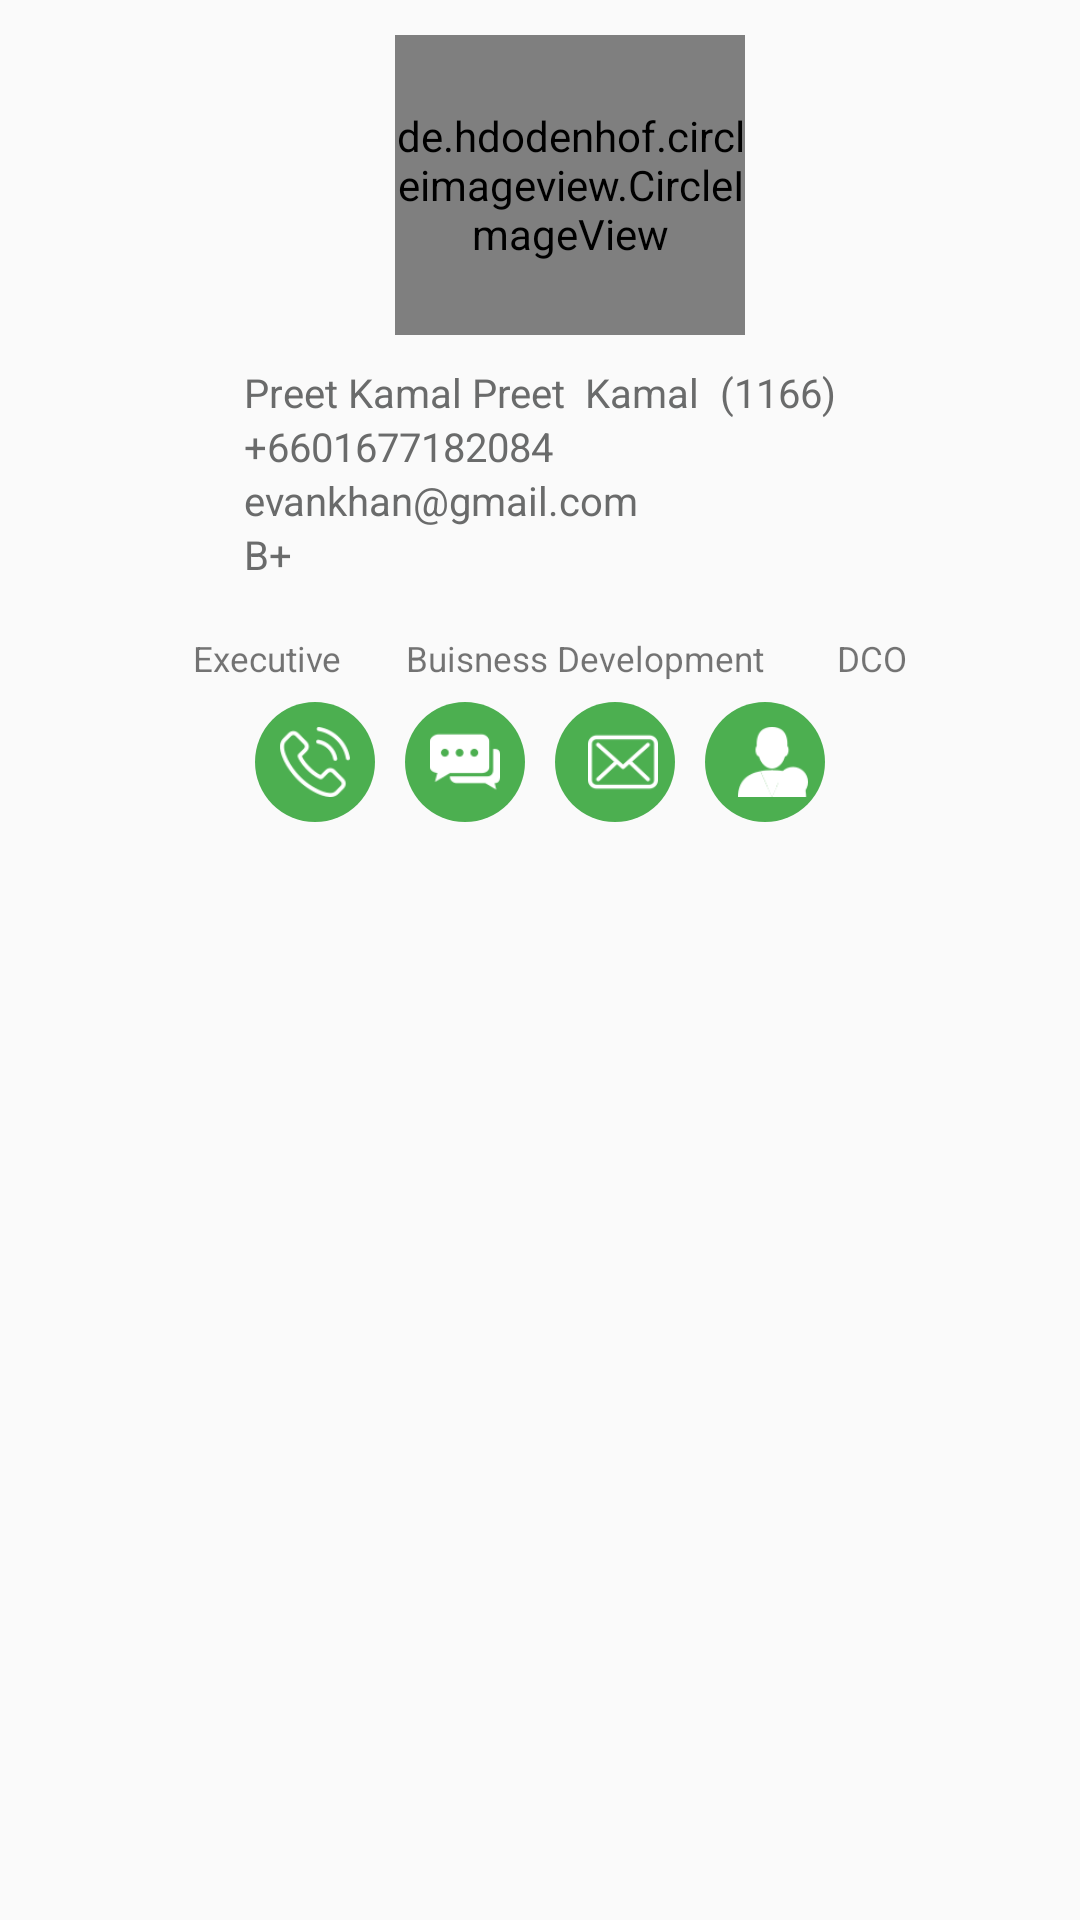

Locate icon controls on the screen. Image size 1080 × 1920, boxes as detection(x1, y1, x2, y2).
envelope: detection(588, 735, 658, 789)
phone call: detection(280, 727, 350, 797)
